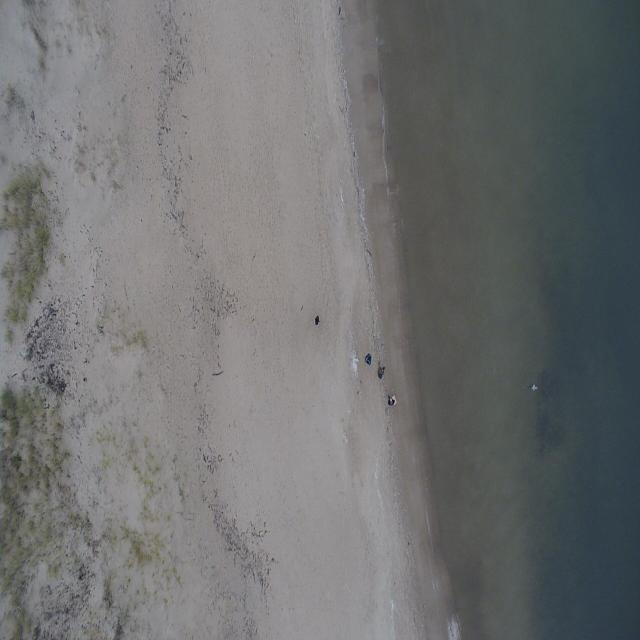p3rson: (387, 394, 395, 406), (378, 367, 385, 379), (365, 354, 371, 364), (315, 315, 320, 326)
